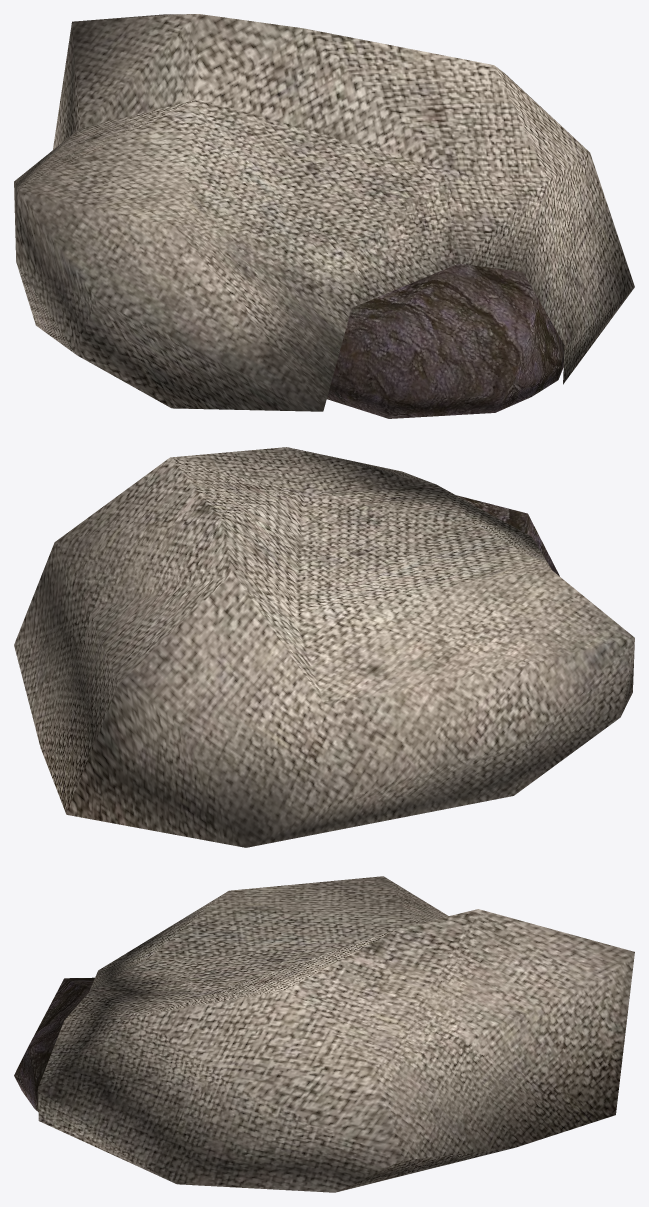
The model's file is KM_WRAPPEDDUNG.glb.
3 renders of one model, top to bottom at view 1: azimuth 30°, elevation 25°; view 2: azimuth 150°, elevation 25°; view 3: azimuth 270°, elevation 25°, orthographic. The views are drawn at different scales.
Parts seen in each view (by area): view 1: Mesh; view 2: Mesh; view 3: Mesh.
Part boxes in pixels (x1,y1,x2,y2): Mesh: (14,14,634,418); Mesh: (14,447,634,847); Mesh: (14,876,634,1192).
Bounding box in the file's own units: 0.4457 × 0.1758 × 0.5399.
Materials: 2 (2 with a texture image).
